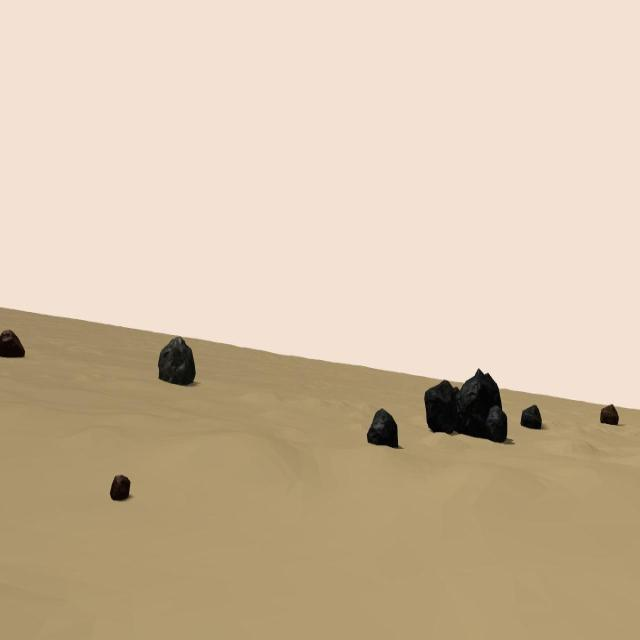rock: (459, 367, 502, 439), (424, 378, 460, 434), (158, 336, 196, 386), (367, 407, 398, 449), (487, 404, 507, 442), (0, 329, 26, 358), (109, 474, 131, 501), (521, 405, 542, 429), (600, 404, 618, 423)
